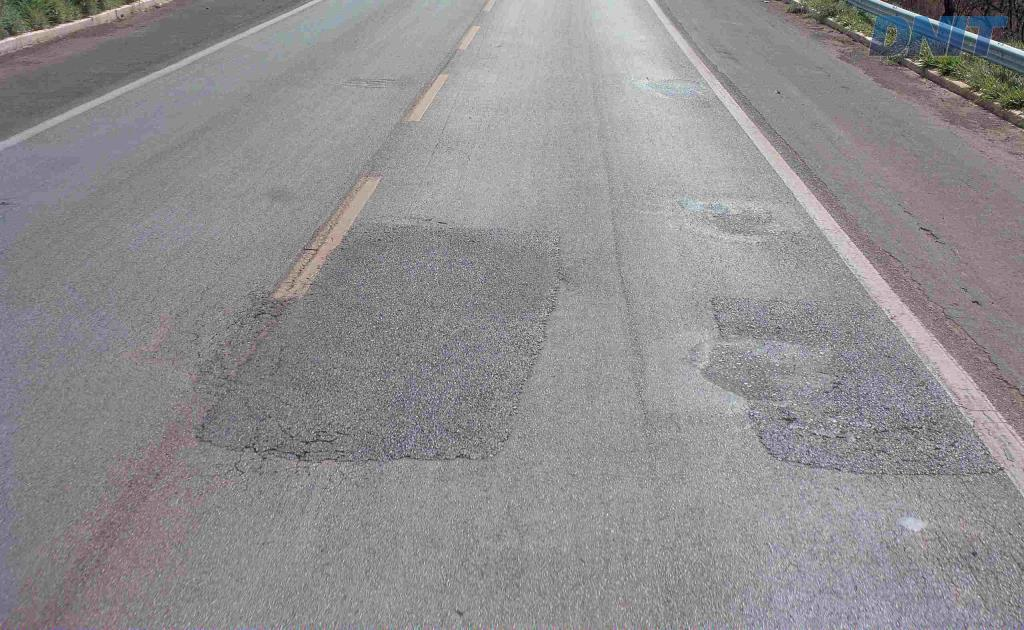crack: (252, 441, 407, 465)
